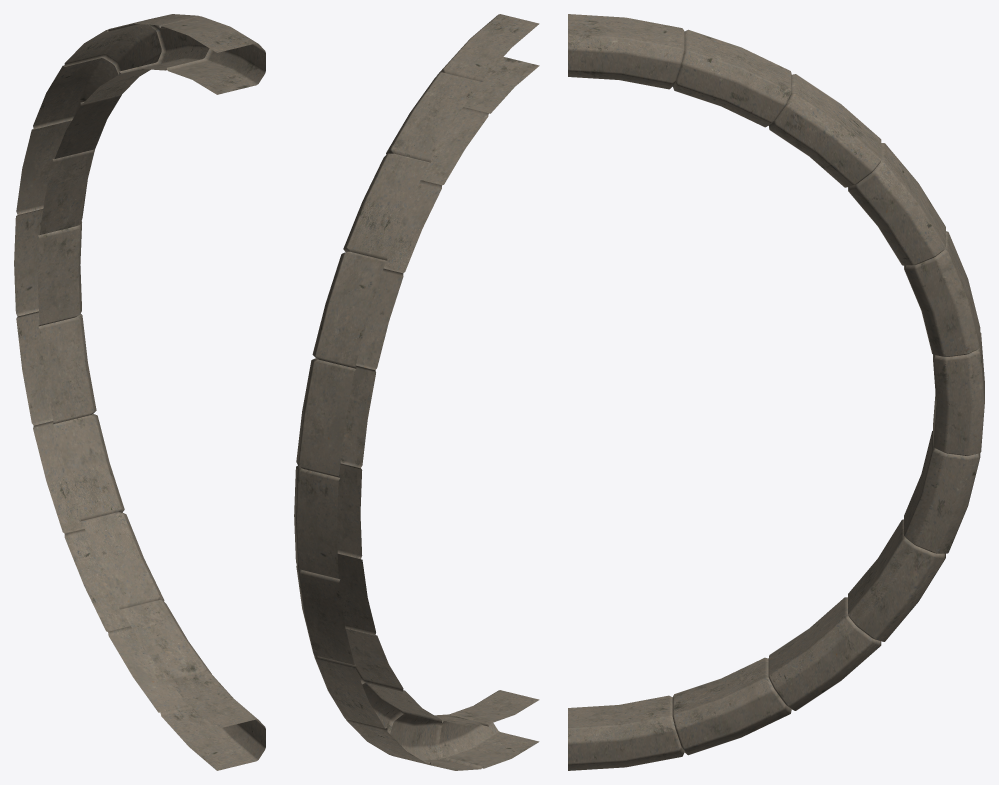
Rendered from cP_GardenLiner01_Curve90_Detailed.dae.
The picture shows the model from 3 angles, left to right: view 1: azimuth 30°, elevation 25°; view 2: azimuth 150°, elevation 25°; view 3: azimuth 270°, elevation 25°; orthographic projection. The views are drawn at different scales.
Parts seen in each view (by area): view 1: cP_GardenLiner01_Curve90_Detailed.001; view 2: cP_GardenLiner01_Curve90_Detailed.001; view 3: cP_GardenLiner01_Curve90_Detailed.001.
Boxes of the visible parts, left/top/right/bottom form: cP_GardenLiner01_Curve90_Detailed.001: left=14, top=14, right=265, bottom=770; cP_GardenLiner01_Curve90_Detailed.001: left=294, top=14, right=539, bottom=770; cP_GardenLiner01_Curve90_Detailed.001: left=568, top=14, right=984, bottom=770.
Size of the model in its own units: 0.2272 by 1.64 by 3.19.
